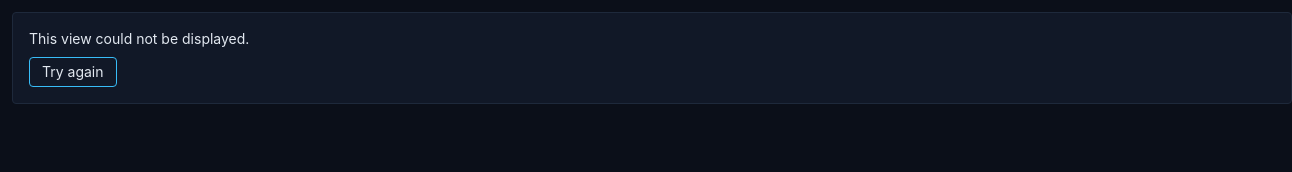
error recovery › lets a failed panel render again after retry
The width and height of the screenshot is (1292, 172).
expect the message "This view could not be displayed. Try again" is shown: met, box 12,12 -> 1291,104
Click the button "Try again": [73, 72] box 29,57 -> 116,87
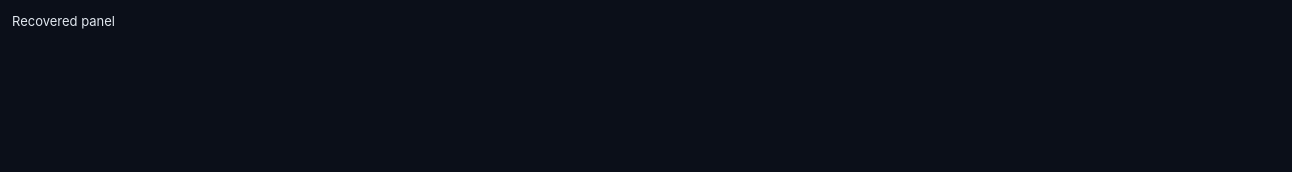
expect the text "Recovered panel" is shown: met, box 12,13 -> 115,29
